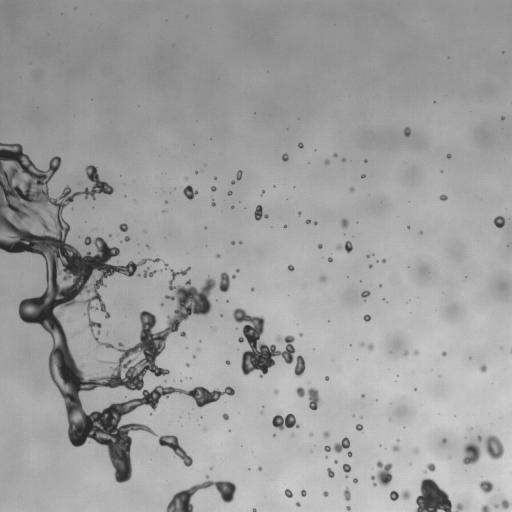droplet: (233, 308, 305, 377), (414, 478, 462, 511), (295, 387, 320, 410), (371, 461, 392, 487), (484, 435, 504, 459), (272, 413, 299, 430), (462, 442, 480, 464), (219, 272, 235, 292), (182, 185, 197, 199), (254, 205, 268, 220), (478, 480, 493, 493), (336, 241, 352, 252), (494, 499, 511, 509), (493, 216, 505, 228), (143, 268, 156, 277), (424, 463, 435, 472), (342, 464, 351, 474), (361, 290, 370, 299), (341, 218, 348, 228), (480, 504, 490, 511), (119, 223, 127, 231), (284, 489, 292, 497), (403, 127, 410, 136), (327, 468, 334, 477), (236, 170, 242, 180), (367, 343, 374, 351), (355, 424, 363, 431), (363, 314, 370, 321), (222, 413, 229, 420), (282, 153, 288, 161), (480, 364, 486, 372), (392, 445, 399, 451), (288, 265, 294, 271), (440, 195, 447, 200), (163, 262, 168, 269), (301, 489, 306, 496), (298, 142, 303, 148), (320, 276, 326, 281), (180, 331, 185, 337), (323, 432, 329, 437), (211, 186, 216, 191), (124, 236, 129, 241), (347, 452, 352, 457), (353, 478, 358, 483), (323, 491, 328, 496), (211, 200, 215, 206), (414, 349, 418, 355), (446, 154, 451, 158), (325, 159, 329, 164), (349, 187, 354, 191), (318, 243, 322, 248), (328, 257, 332, 262), (442, 351, 446, 356), (226, 360, 230, 365), (273, 390, 278, 394), (477, 436, 481, 441), (296, 502, 300, 507), (346, 506, 350, 511), (333, 153, 337, 157), (361, 174, 365, 178), (227, 191, 231, 195), (306, 219, 310, 223), (382, 259, 386, 263), (360, 342, 364, 346), (325, 376, 329, 380), (442, 438, 446, 442), (414, 449, 418, 453), (261, 190, 264, 195), (341, 158, 345, 161), (404, 351, 407, 355), (309, 432, 312, 436), (258, 466, 261, 470), (252, 508, 256, 511), (184, 176, 187, 179), (231, 180, 234, 183), (314, 221, 317, 224), (231, 241, 234, 244), (216, 254, 219, 257), (366, 254, 369, 257), (369, 265, 372, 268), (299, 333, 302, 336), (186, 363, 189, 366), (334, 460, 337, 463), (204, 427, 206, 431), (502, 116, 504, 119), (231, 206, 234, 208), (236, 269, 238, 272), (251, 288, 253, 291), (260, 411, 263, 413), (209, 467, 212, 469), (214, 177, 216, 179), (298, 212, 300, 214), (284, 225, 286, 227), (407, 226, 409, 228), (239, 241, 241, 243), (379, 285, 381, 287), (161, 303, 163, 305)
ligament: (0, 143, 234, 482), (166, 475, 236, 511), (158, 435, 192, 466), (324, 437, 350, 453), (389, 489, 411, 500), (344, 488, 350, 501), (151, 258, 162, 262), (510, 349, 511, 352)
